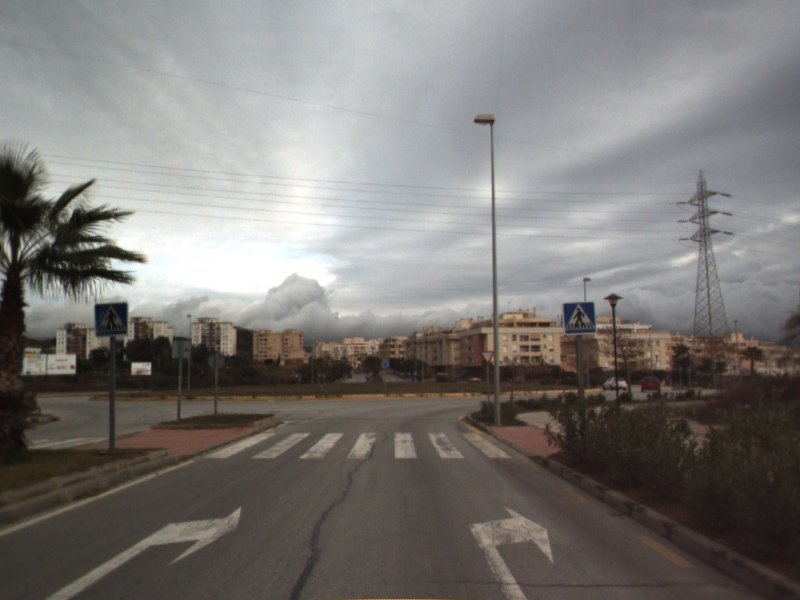RIGHT: (42, 504, 243, 600), (466, 504, 556, 600)
